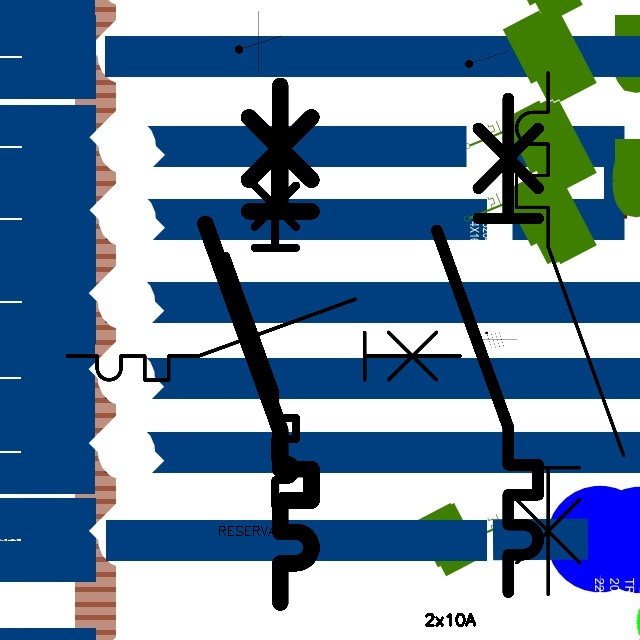interruptor_termomagnetico: (503, 59, 637, 607), (192, 72, 325, 615), (424, 85, 551, 604), (57, 289, 470, 390), (217, 156, 305, 515)
